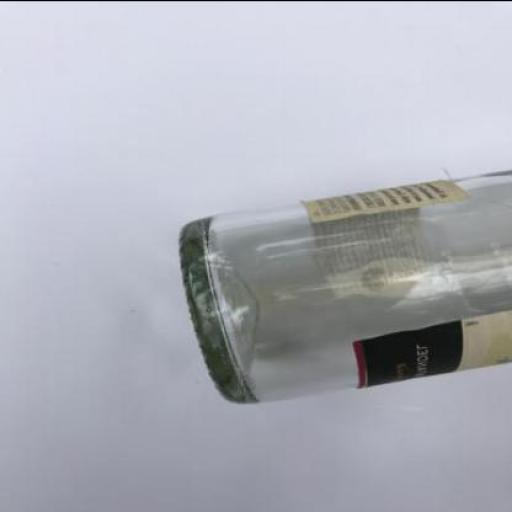glass: (177, 168, 511, 402)
